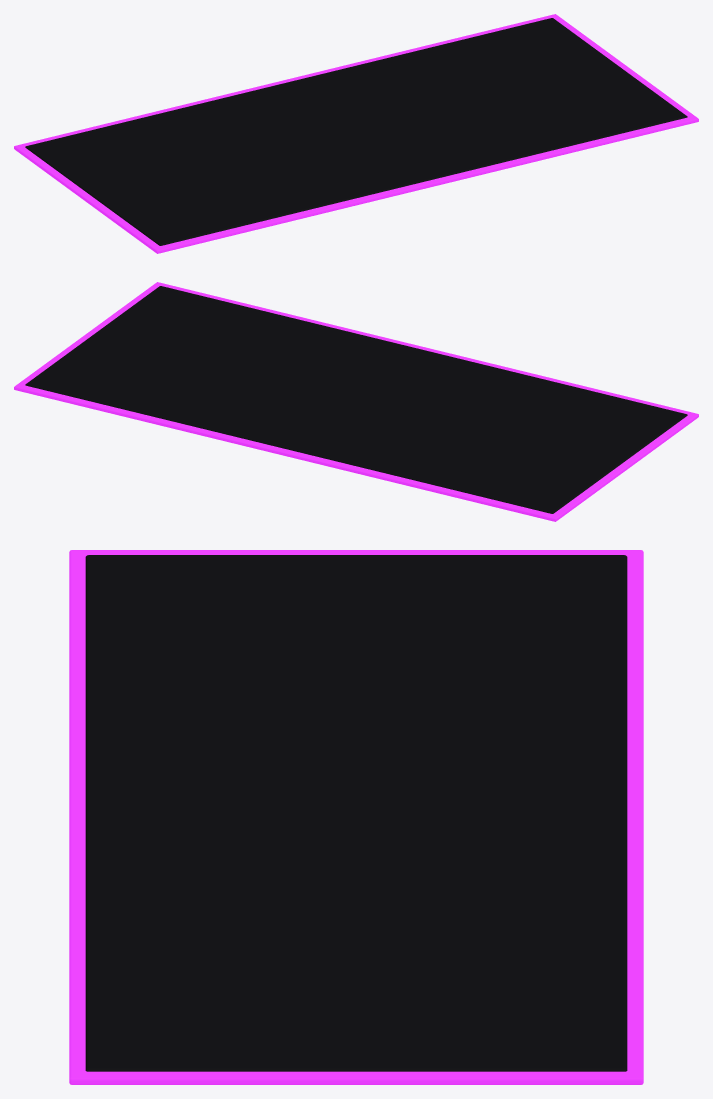
The model's file is mat_rgb.glb.
The picture shows the model from 3 angles, top to bottom: view 1: azimuth 30°, elevation 25°; view 2: azimuth 150°, elevation 25°; view 3: azimuth 270°, elevation 25°; orthographic projection. The views are drawn at different scales.
Visible parts, largest first — view 1: mat_rgb; view 2: mat_rgb; view 3: mat_rgb.
Part boxes in pixels (x1,y1,x2,y2): mat_rgb: (14,14,698,253); mat_rgb: (14,282,698,521); mat_rgb: (69,550,643,1084).
Bounding box in the file's own units: 0.554 × 0.0045 × 0.254.
